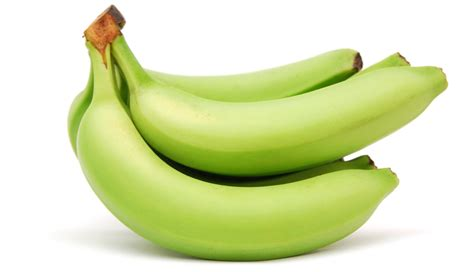banana: (76, 95, 405, 260), (116, 59, 457, 179)
